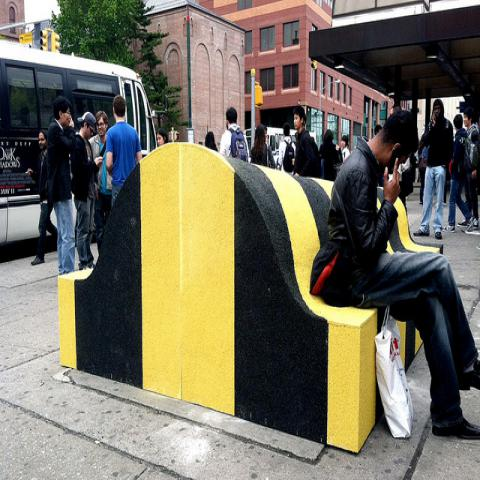bus: (1, 38, 157, 243), (244, 126, 297, 167)
